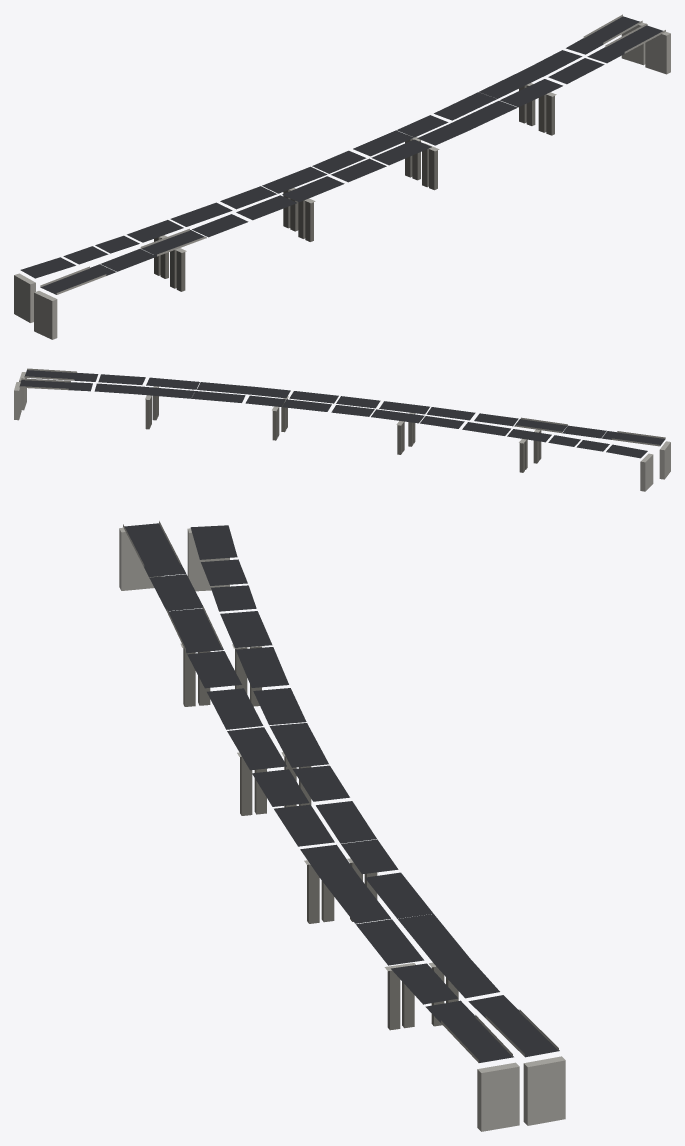
File: br_r12_james_macdonald_lod3.gltf
3 views of the same model, one above another, from view 1: azimuth 30°, elevation 25°; view 2: azimuth 150°, elevation 25°; view 3: azimuth 270°, elevation 25° (orthographic). The views are drawn at different scales.
Visible parts, largest first — view 1: br_r12_james_macdonald_lod3; view 2: br_r12_james_macdonald_lod3; view 3: br_r12_james_macdonald_lod3.
Part boxes in pixels (x1,y1,x2,y2): br_r12_james_macdonald_lod3: (14,14,670,339); br_r12_james_macdonald_lod3: (14,368,670,491); br_r12_james_macdonald_lod3: (119,521,565,1131).
Size of the model in its own units: 377 by 23.6 by 130.
